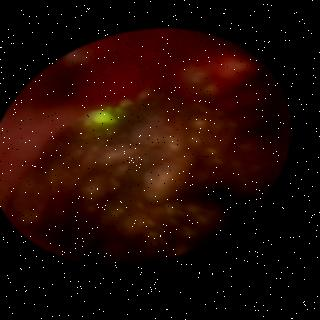laser: (93, 111, 119, 126)
stone: (15, 89, 271, 260), (188, 70, 233, 116)
tissue: (0, 34, 289, 192)
